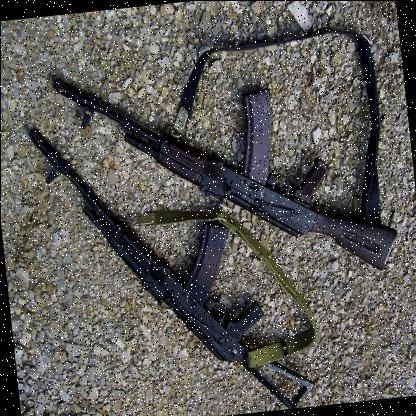rifle: (48, 35, 401, 304), (31, 99, 320, 416)
